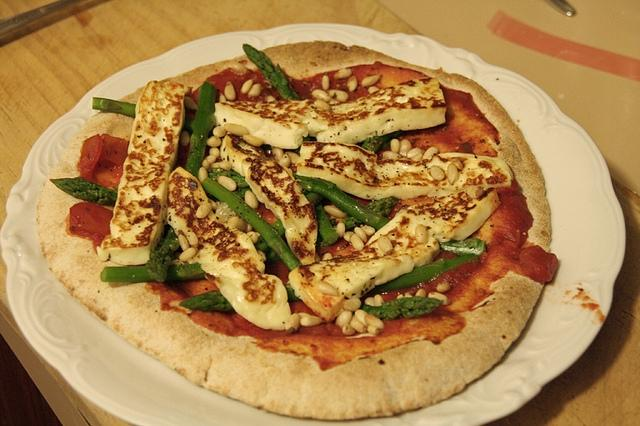asparagus: (209, 168, 487, 256), (179, 253, 479, 312), (202, 177, 301, 270), (93, 98, 194, 134), (242, 44, 300, 100), (186, 82, 217, 176), (100, 262, 206, 282), (50, 177, 119, 206), (362, 296, 442, 320), (146, 224, 179, 282), (316, 205, 338, 244), (362, 131, 397, 152)
green bean: (296, 181, 486, 256), (201, 177, 301, 270), (378, 254, 475, 292), (314, 206, 338, 244)
